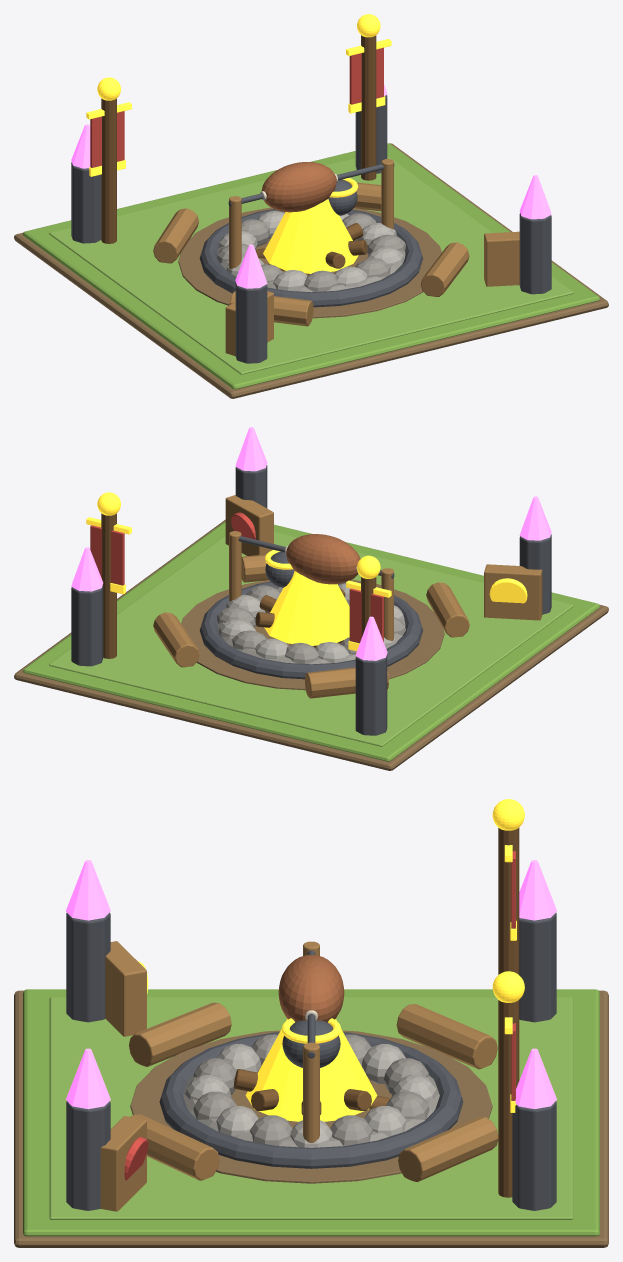
The model's file is army_camp_lv7.glb.
3 views of the same model, one above another, from view 1: azimuth 30°, elevation 25°; view 2: azimuth 150°, elevation 25°; view 3: azimuth 270°, elevation 25° (orthographic). The views are drawn at different scales.
Visible parts, largest first — view 1: Base_Inner, Base_Grass, Base_Dirt, CampDirtPatch, FlameOuter, AC_OuterRing, RoastMeat, AC_CornerPillar_-1_-1, AC_CornerPillar_1_-1, AC_CornerPillar_-1_1, TotemPole_-1, TotemPole_1 (+19 smaller); view 2: Base_Inner, Base_Grass, Base_Dirt, CampDirtPatch, FlameOuter, AC_OuterRing, RoastMeat, AC_CornerPillar_-1_1, AC_CornerPillar_1_1, CampRackFrame_-1, TotemPole_1, CampRackFrame_1 (+24 smaller); view 3: Base_Inner, Base_Grass, Base_Dirt, AC_OuterRing, CampDirtPatch, FlameOuter, AC_CornerPillar_1_1, AC_CornerPillar_-1_-1, AC_CornerPillar_1_-1, AC_CornerPillar_-1_1, LogBench_3.90, LogBench_2.35 (+32 smaller).
Part boxes in pixels (x1,y1,x2,y2): Base_Inner: (49, 156, 573, 374); Base_Grass: (23, 143, 599, 389); Base_Dirt: (14, 143, 608, 398); CampDirtPatch: (178, 207, 441, 318); FlameOuter: (263, 199, 358, 273); AC_OuterRing: (199, 209, 423, 307); RoastMeat: (261, 162, 336, 212); AC_CornerPillar_-1_-1: (235, 282, 267, 363); AC_CornerPillar_1_-1: (519, 213, 551, 294); AC_CornerPillar_-1_1: (71, 162, 101, 243); TotemPole_-1: (101, 98, 116, 243); TotemPole_1: (361, 35, 376, 180); Base_Inner: (49, 531, 573, 746); Base_Grass: (23, 521, 599, 761); Base_Dirt: (14, 519, 608, 770); CampDirtPatch: (181, 579, 444, 690); FlameOuter: (264, 571, 349, 645); AC_OuterRing: (199, 581, 423, 679); RoastMeat: (286, 534, 360, 584); AC_CornerPillar_-1_1: (355, 654, 387, 735); AC_CornerPillar_1_1: (71, 585, 103, 666); CampRackFrame_-1: (484, 564, 542, 620); TotemPole_1: (101, 513, 116, 658); CampRackFrame_1: (225, 495, 273, 555); Base_Inner: (49, 997, 573, 1219); Base_Grass: (23, 989, 599, 1236); Base_Dirt: (14, 990, 608, 1247); AC_OuterRing: (159, 1032, 463, 1168); CampDirtPatch: (130, 1030, 492, 1183); FlameOuter: (245, 1019, 377, 1121); AC_CornerPillar_1_1: (512, 1101, 556, 1210); AC_CornerPillar_-1_-1: (66, 912, 110, 1022); AC_CornerPillar_1_-1: (66, 1101, 110, 1210); AC_CornerPillar_-1_1: (519, 913, 556, 1022); LogBench_3.90: (129, 1002, 231, 1066); LogBench_2.35: (396, 1004, 497, 1069).
Size of the model in its own units: 3.68 by 1.62 by 3.68.
